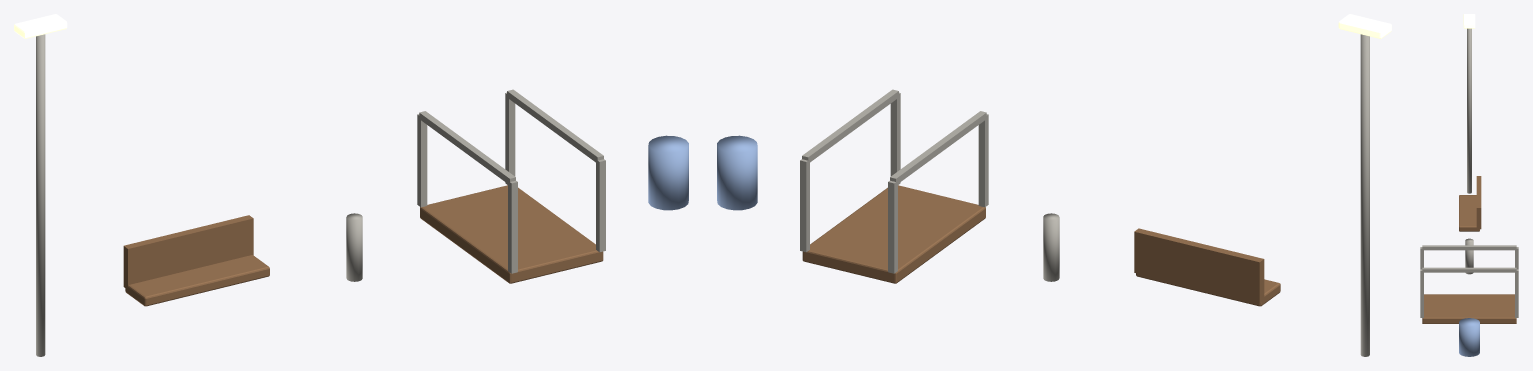
File: StreetFurnitureKit_blockout.glb
The picture shows the model from 3 angles, left to right: view 1: azimuth 30°, elevation 25°; view 2: azimuth 150°, elevation 25°; view 3: azimuth 270°, elevation 25°; orthographic projection. The views are drawn at different scales.
Parts seen in each view (by area): view 1: SF03_StreetFurnitureKit_RailingFloor_L0, SF03_StreetFurnitureKit_BenchBack_L0, SF03_StreetFurnitureKit_Bench_L0, SF03_StreetFurnitureKit_LampPole_L0, SF03_StreetFurnitureKit_Bin_L0, SF03_StreetFurnitureKit_RailingRail0_L0, SF03_StreetFurnitureKit_RailingRail2_L0, SF03_StreetFurnitureKit_Bollard_L0, SF03_StreetFurnitureKit_RailingPost0S1_L0, SF03_StreetFurnitureKit_RailingPost2S0_L0, SF03_StreetFurnitureKit_RailingPost0S0_L0, SF03_StreetFurnitureKit_LampHead_L0 (+1 smaller); view 2: SF03_StreetFurnitureKit_RailingFloor_L0, SF03_StreetFurnitureKit_BenchBack_L0, SF03_StreetFurnitureKit_LampPole_L0, SF03_StreetFurnitureKit_Bin_L0, SF03_StreetFurnitureKit_RailingRail2_L0, SF03_StreetFurnitureKit_RailingRail0_L0, SF03_StreetFurnitureKit_Bollard_L0, SF03_StreetFurnitureKit_RailingPost0S0_L0, SF03_StreetFurnitureKit_RailingPost2S1_L0, SF03_StreetFurnitureKit_RailingPost0S1_L0, SF03_StreetFurnitureKit_LampHead_L0, SF03_StreetFurnitureKit_RailingPost2S0_L0 (+1 smaller); view 3: SF03_StreetFurnitureKit_RailingFloor_L0, SF03_StreetFurnitureKit_LampPole_L0, SF03_StreetFurnitureKit_Bin_L0, SF03_StreetFurnitureKit_Bench_L0, SF03_StreetFurnitureKit_RailingRail2_L0, SF03_StreetFurnitureKit_RailingRail0_L0, SF03_StreetFurnitureKit_BenchBack_L0, SF03_StreetFurnitureKit_Bollard_L0, SF03_StreetFurnitureKit_RailingPost2S0_L0, SF03_StreetFurnitureKit_RailingPost2S1_L0, SF03_StreetFurnitureKit_LampHead_L0.
Boxes of the visible parts, left/top/right/bottom form: SF03_StreetFurnitureKit_RailingFloor_L0: left=420, top=185, right=603, bottom=283; SF03_StreetFurnitureKit_BenchBack_L0: left=123, top=215, right=253, bottom=287; SF03_StreetFurnitureKit_Bench_L0: left=125, top=255, right=269, bottom=306; SF03_StreetFurnitureKit_LampPole_L0: left=36, top=34, right=45, bottom=356; SF03_StreetFurnitureKit_Bin_L0: left=648, top=135, right=688, bottom=210; SF03_StreetFurnitureKit_RailingRail0_L0: left=419, top=111, right=515, bottom=184; SF03_StreetFurnitureKit_RailingRail2_L0: left=507, top=89, right=603, bottom=162; SF03_StreetFurnitureKit_Bollard_L0: left=346, top=213, right=362, bottom=281; SF03_StreetFurnitureKit_RailingPost0S1_L0: left=417, top=114, right=427, bottom=207; SF03_StreetFurnitureKit_RailingPost2S0_L0: left=596, top=159, right=605, bottom=252; SF03_StreetFurnitureKit_RailingPost0S0_L0: left=508, top=180, right=517, bottom=273; SF03_StreetFurnitureKit_LampHead_L0: left=14, top=14, right=67, bottom=38; SF03_StreetFurnitureKit_RailingFloor_L0: left=802, top=185, right=985, bottom=283; SF03_StreetFurnitureKit_BenchBack_L0: left=1134, top=228, right=1264, bottom=303; SF03_StreetFurnitureKit_LampPole_L0: left=1360, top=34, right=1369, bottom=356; SF03_StreetFurnitureKit_Bin_L0: left=717, top=135, right=757, bottom=210; SF03_StreetFurnitureKit_RailingRail2_L0: left=802, top=89, right=898, bottom=162; SF03_StreetFurnitureKit_RailingRail0_L0: left=890, top=111, right=986, bottom=183; SF03_StreetFurnitureKit_Bollard_L0: left=1043, top=213, right=1059, bottom=281; SF03_StreetFurnitureKit_RailingPost0S0_L0: left=978, top=114, right=988, bottom=207; SF03_StreetFurnitureKit_RailingPost2S1_L0: left=800, top=159, right=809, bottom=252; SF03_StreetFurnitureKit_RailingPost0S1_L0: left=888, top=180, right=897, bottom=273; SF03_StreetFurnitureKit_LampHead_L0: left=1338, top=14, right=1391, bottom=38; SF03_StreetFurnitureKit_RailingPost2S0_L0: left=890, top=92, right=900, bottom=184; SF03_StreetFurnitureKit_RailingFloor_L0: left=1422, top=294, right=1516, bottom=323; SF03_StreetFurnitureKit_LampPole_L0: left=1467, top=28, right=1471, bottom=193; SF03_StreetFurnitureKit_Bin_L0: left=1459, top=318, right=1479, bottom=356; SF03_StreetFurnitureKit_Bench_L0: left=1459, top=195, right=1479, bottom=231; SF03_StreetFurnitureKit_RailingRail2_L0: left=1422, top=267, right=1516, bottom=272; SF03_StreetFurnitureKit_RailingRail0_L0: left=1422, top=245, right=1516, bottom=250; SF03_StreetFurnitureKit_BenchBack_L0: left=1476, top=176, right=1481, bottom=229; SF03_StreetFurnitureKit_Bollard_L0: left=1465, top=238, right=1473, bottom=274; SF03_StreetFurnitureKit_RailingPost2S0_L0: left=1420, top=269, right=1423, bottom=317; SF03_StreetFurnitureKit_RailingPost2S1_L0: left=1515, top=269, right=1518, bottom=317; SF03_StreetFurnitureKit_LampHead_L0: left=1463, top=14, right=1475, bottom=28.
Size of the model in its own units: 8.5 by 4.05 by 2.08.
